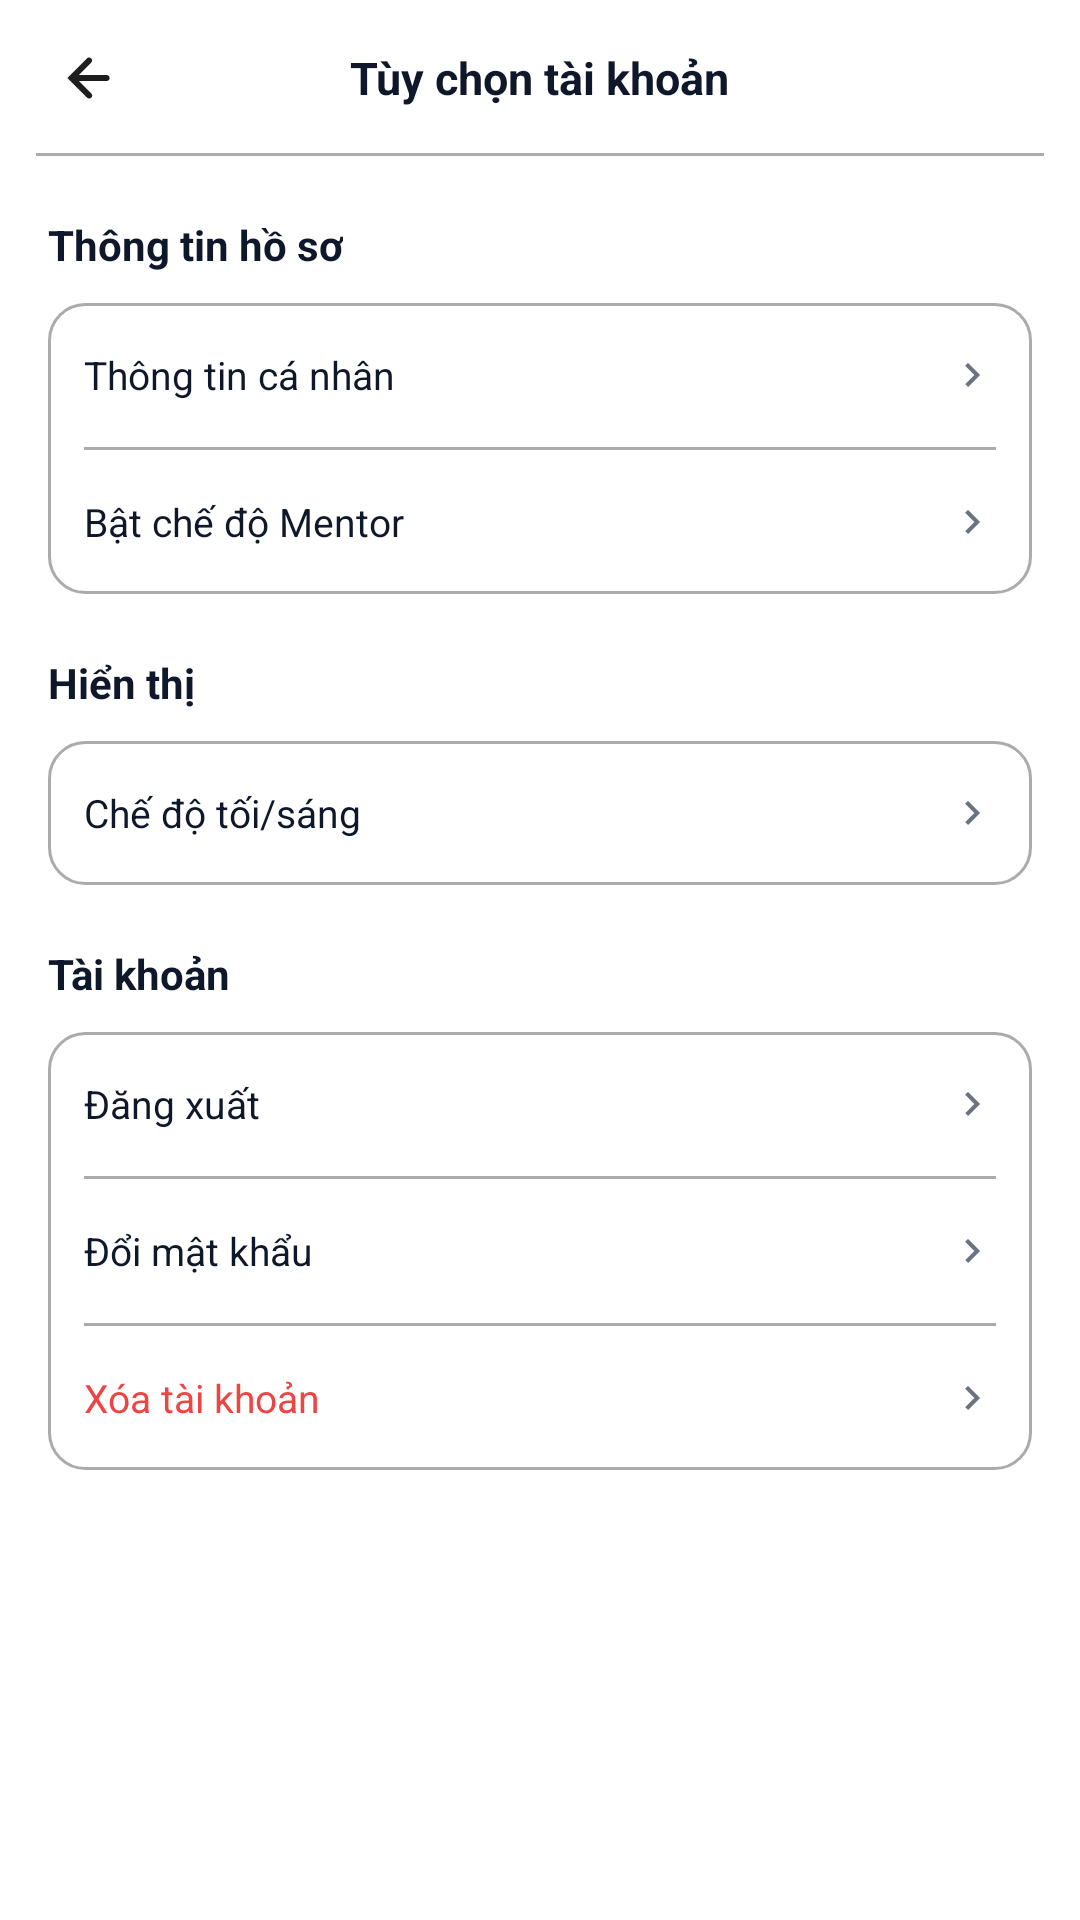

Icons on this 1080 × 1920 Android screen, each with its box as (x1, y1, x2, y2):
Back button: (67, 57, 110, 99)
